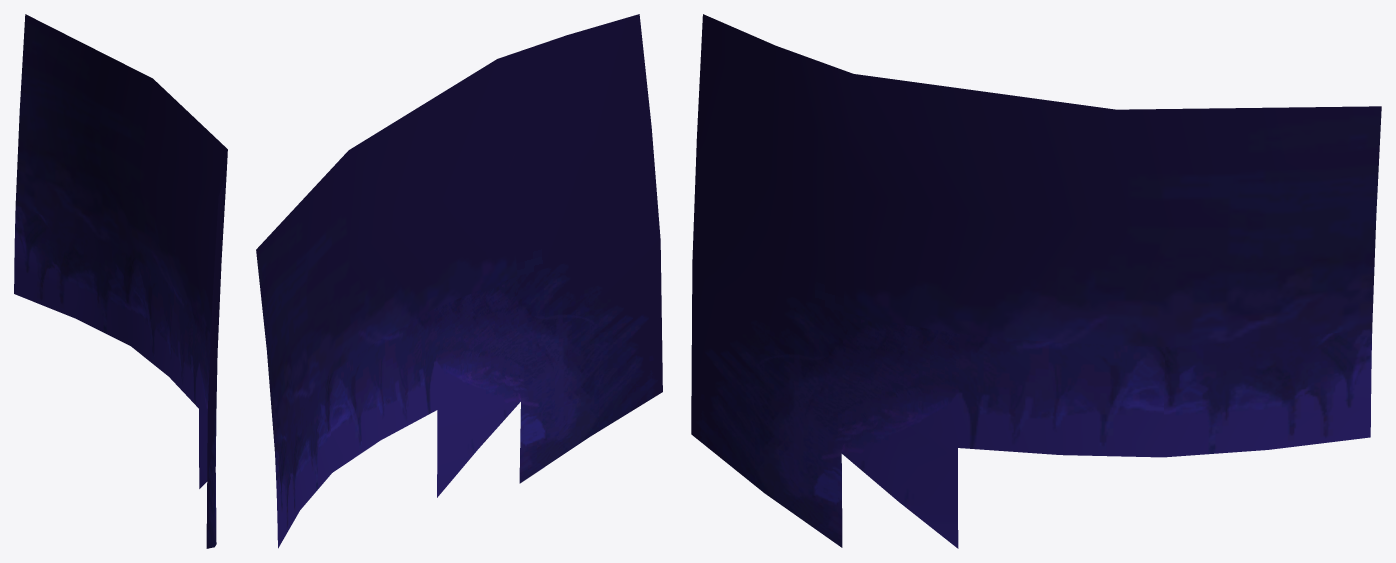
Rendered from SWORDLIGHT20_PS-AREA05-RANGE02_01.fbx.
3 views of the same model, side by side, from view 1: azimuth 30°, elevation 25°; view 2: azimuth 150°, elevation 25°; view 3: azimuth 270°, elevation 25° (orthographic). The views are drawn at different scales.
Visible parts, largest first — view 1: SWORDLIGHT20_PS-AREA05-RANGE02_01; view 2: SWORDLIGHT20_PS-AREA05-RANGE02_01; view 3: SWORDLIGHT20_PS-AREA05-RANGE02_01.
Part boxes in pixels (box(x1,y1,x2,y2)): SWORDLIGHT20_PS-AREA05-RANGE02_01: box(14, 14, 227, 548); SWORDLIGHT20_PS-AREA05-RANGE02_01: box(256, 14, 662, 548); SWORDLIGHT20_PS-AREA05-RANGE02_01: box(691, 14, 1381, 548).
Bounding box in the file's own units: 101404 × 333150 × 415782.
Materials: 7 (7 with a texture image).
